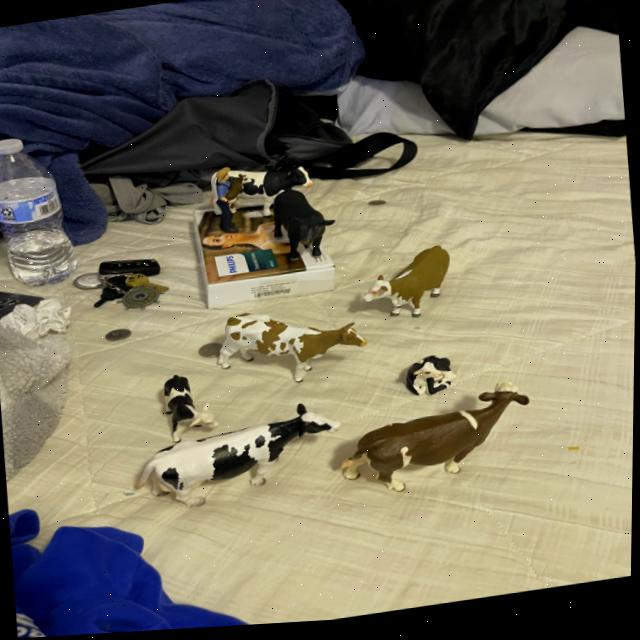cow: (131, 396, 352, 523), (332, 381, 544, 510), (218, 314, 369, 392), (360, 234, 465, 340), (246, 179, 344, 275), (151, 369, 220, 446), (399, 353, 461, 409), (229, 168, 312, 205), (220, 174, 255, 217)
person: (214, 169, 235, 234)
